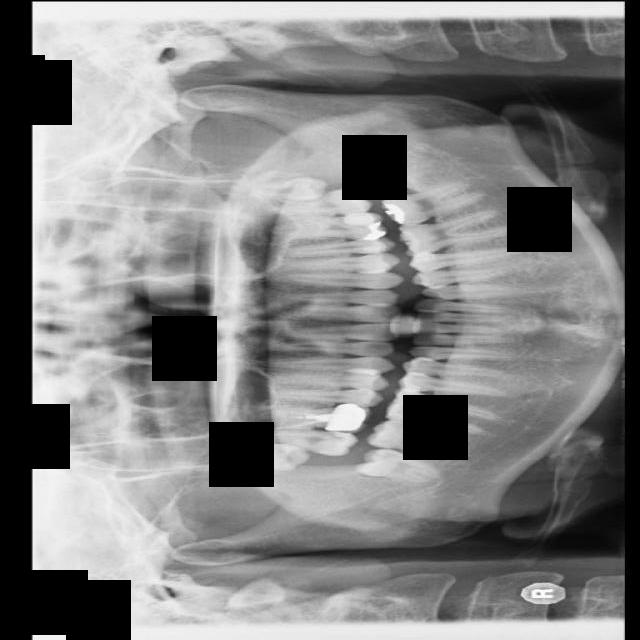3M ESPE Implant: (222, 441, 310, 471)
52: (324, 397, 374, 437), (380, 189, 428, 230), (346, 202, 389, 247), (398, 215, 441, 260), (311, 430, 357, 456), (408, 250, 443, 273)
73: (261, 404, 339, 431), (582, 82, 596, 90)
BioHorizons Implant: (271, 185, 373, 215)
BioLife Implant: (239, 173, 329, 201)
Blue Sky Bio Implant: (380, 174, 484, 230)
Caries: (248, 429, 360, 458)
Implant: (365, 414, 468, 457)
Keystone Dental Implant: (354, 443, 440, 484)
